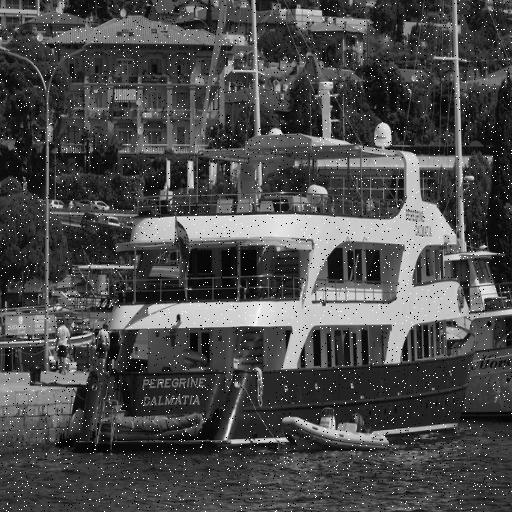cruises: (67, 77, 481, 452)
